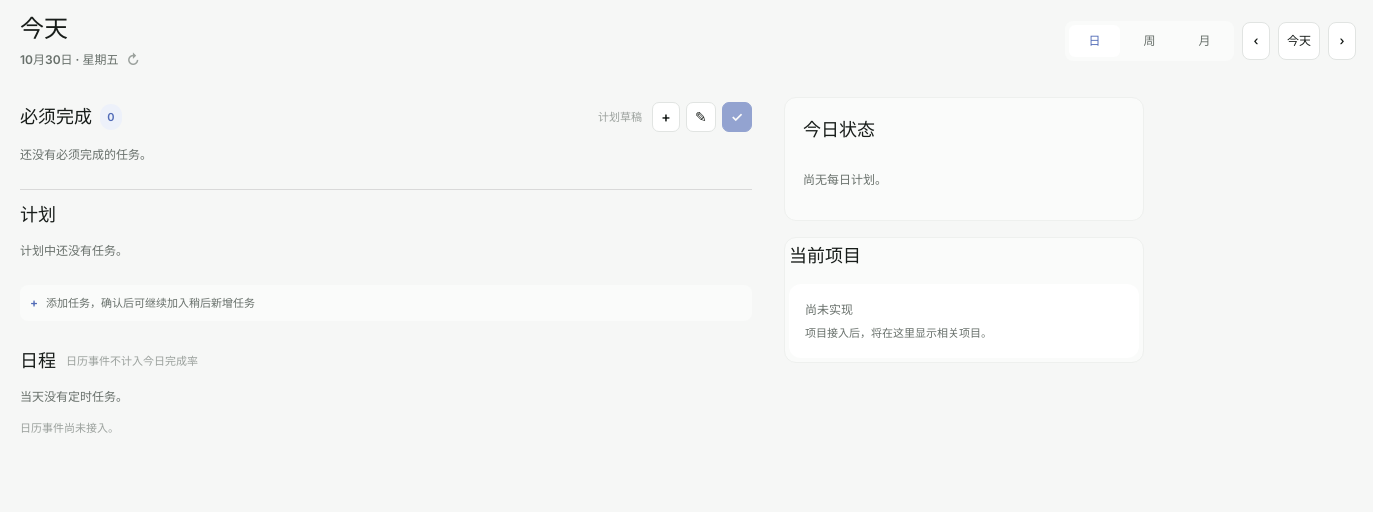
Test: Today Desktop › supports keyboard dismissal of inline creation without losing the draft
The image size is (1373, 512).
Expected: the text "计划草稿" is shown, x1=598 y1=108 x2=642 y2=126
Expected: the button "+ 添加任务，确认后可继续加入稍后新增任务" is enabled, x1=20 y1=285 x2=752 y2=321
Click the button named "新增任务" at (666, 117), box x1=652 y1=102 x2=680 y2=132
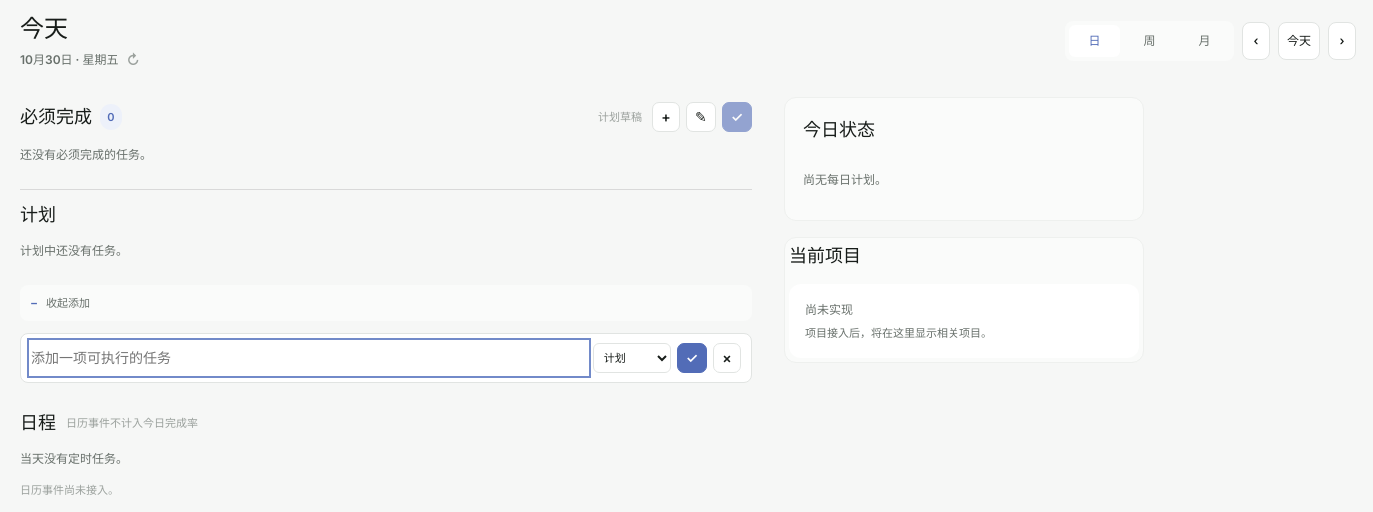
Type "Keep inline draft" into the field named "任务名称" at (309, 358), box x1=31 y1=342 x2=587 y2=374
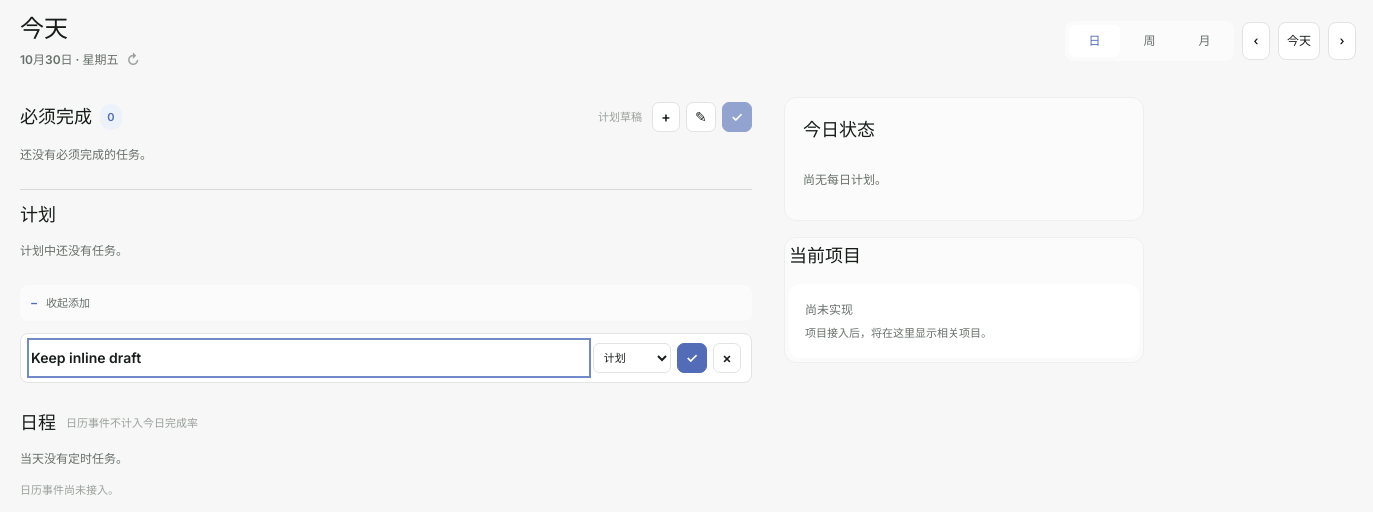
Press Escape in the field named "任务名称", box x1=31 y1=342 x2=587 y2=374
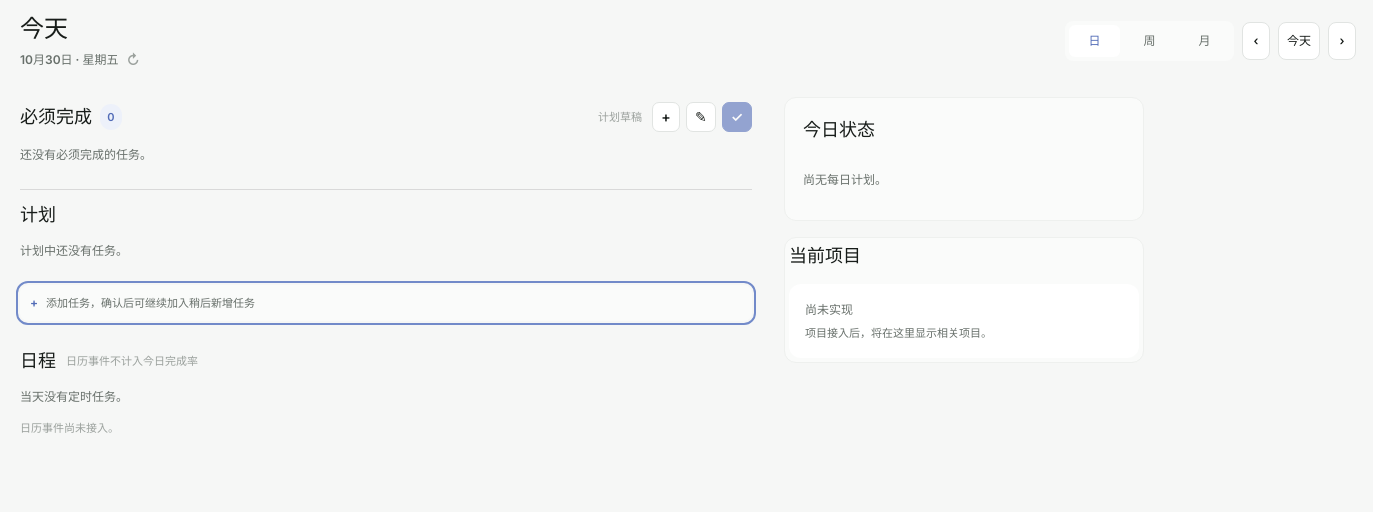
Expected: the field labelled "任务名称" is not shown
Click the button "+ 添加任务，确认后可继续加入稍后新增任务" at (151, 303), box x1=20 y1=285 x2=752 y2=321
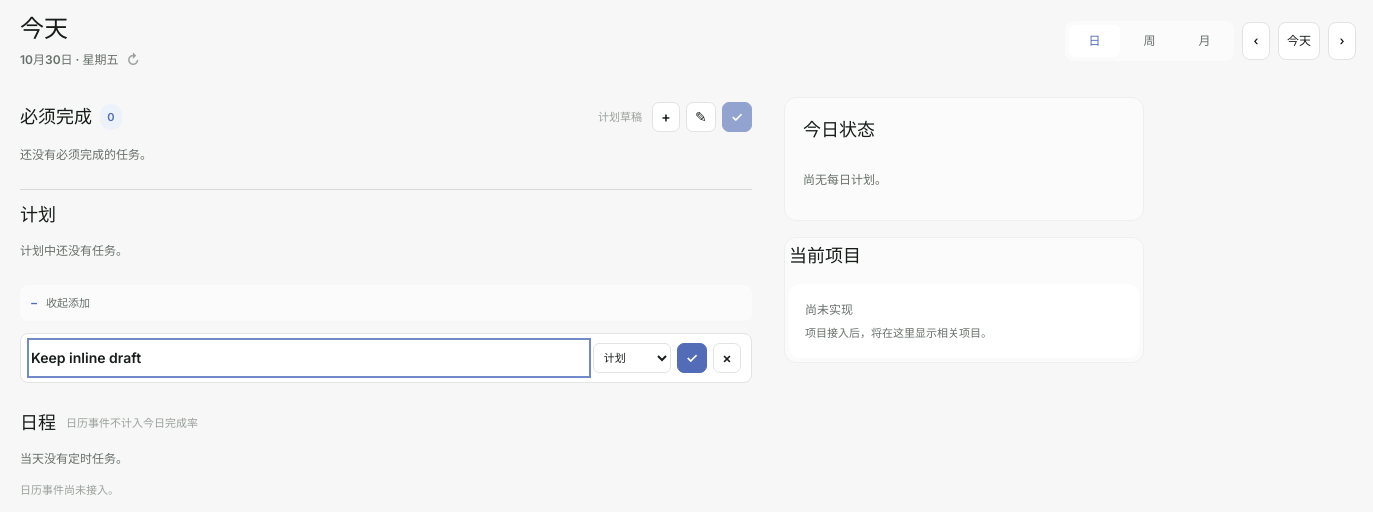
Expected: the field named "任务名称" holds "Keep inline draft", x1=31 y1=342 x2=587 y2=374
